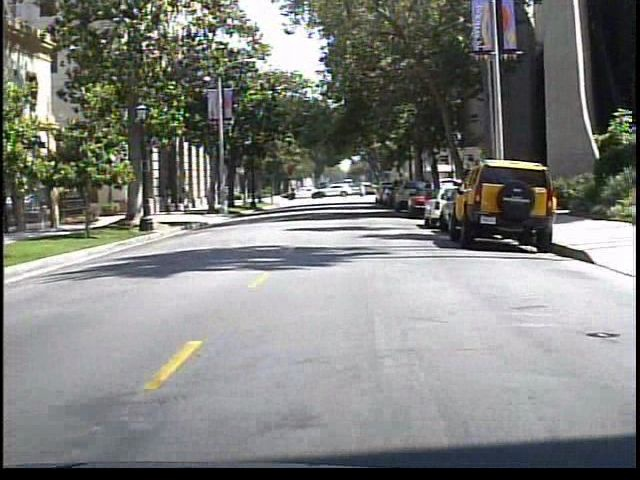person: (177, 184, 197, 216), (162, 182, 179, 215), (358, 181, 373, 204)
